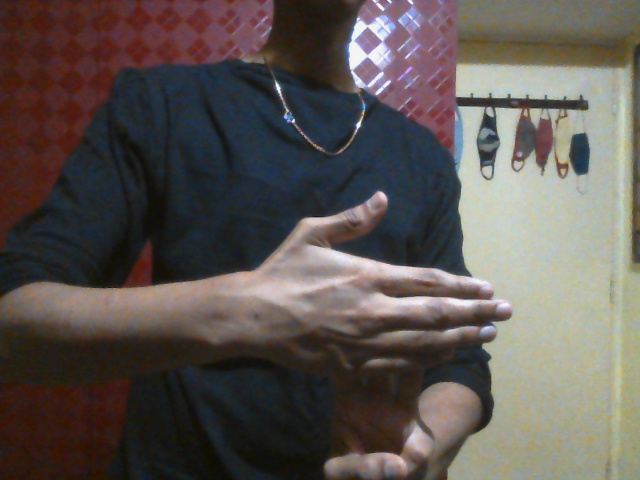M: (259, 194, 512, 480)
